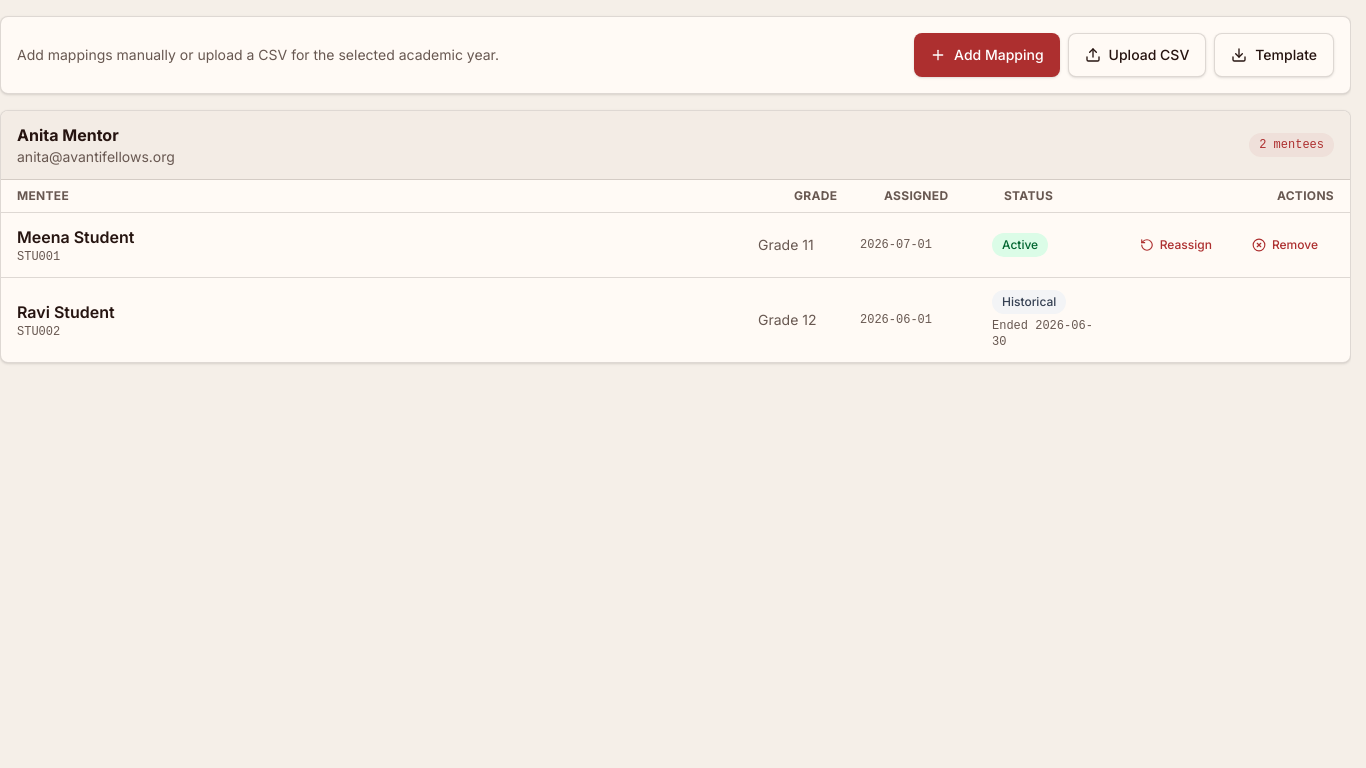
AcademicMentorshipManager › shows concurrent Mapping conflicts and still refreshes the table
Click the button "Add Mapping" at (987, 55), box [914,33,1060,77]
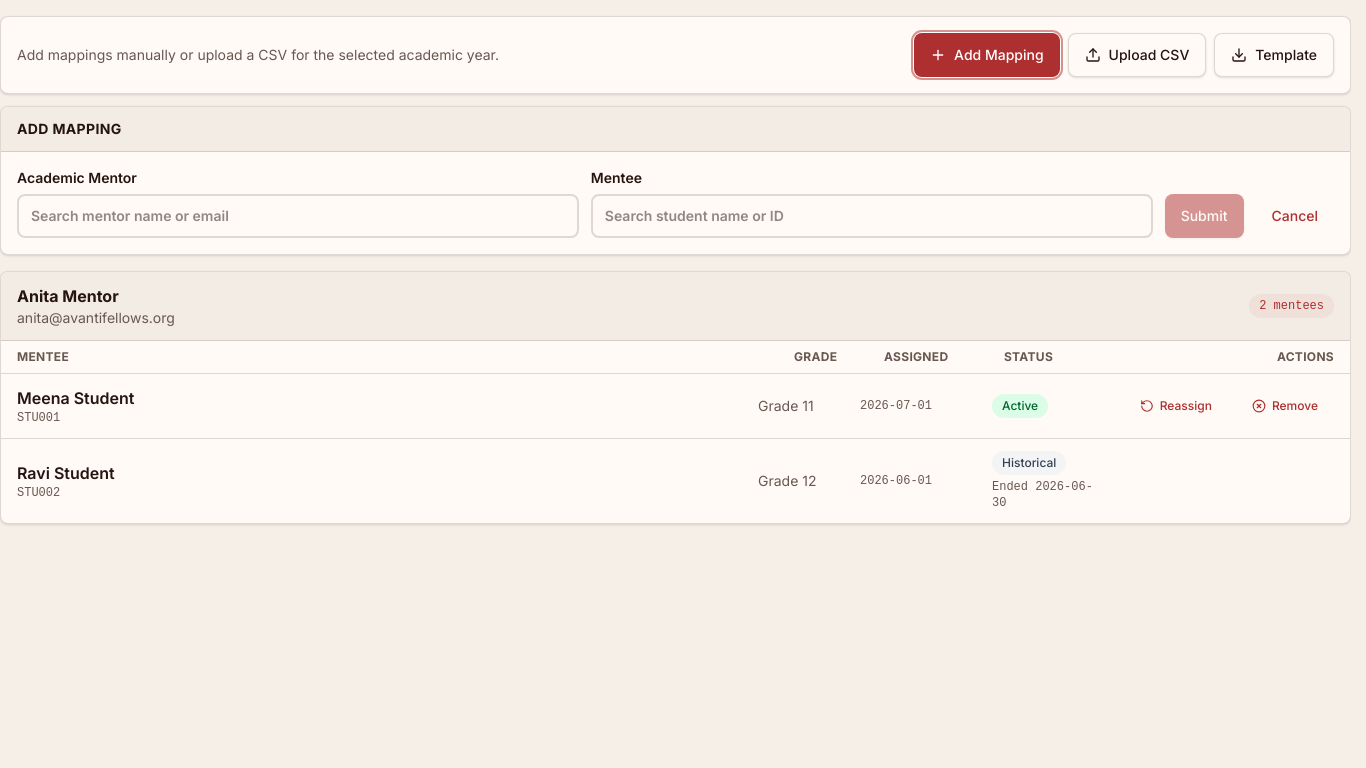
Type "Anita" into the field labelled "Academic Mentor" at (298, 216), box [17,194,579,238]
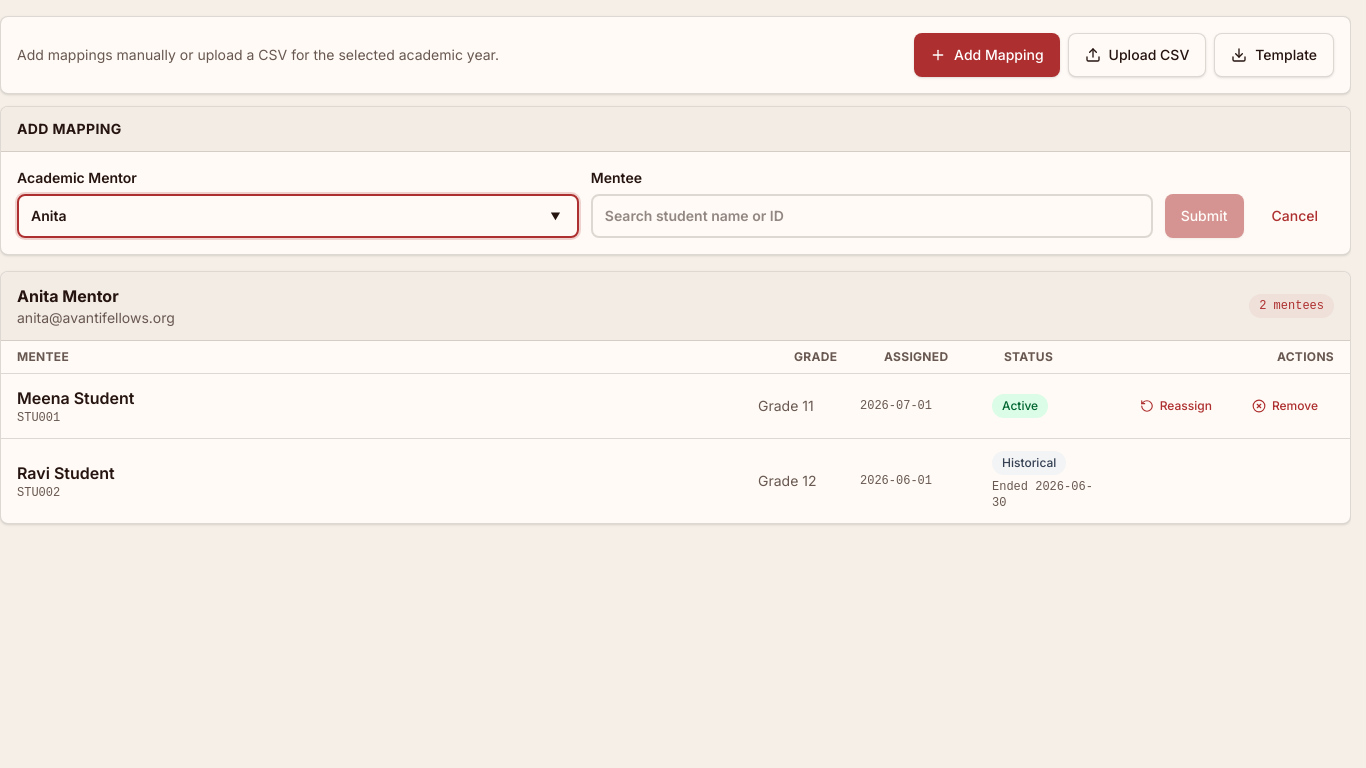
Replace the text in the field labelled "Academic Mentor" with "Anita Mentor (anita@avantifellows.org)" at (298, 216), box [17,194,579,238]
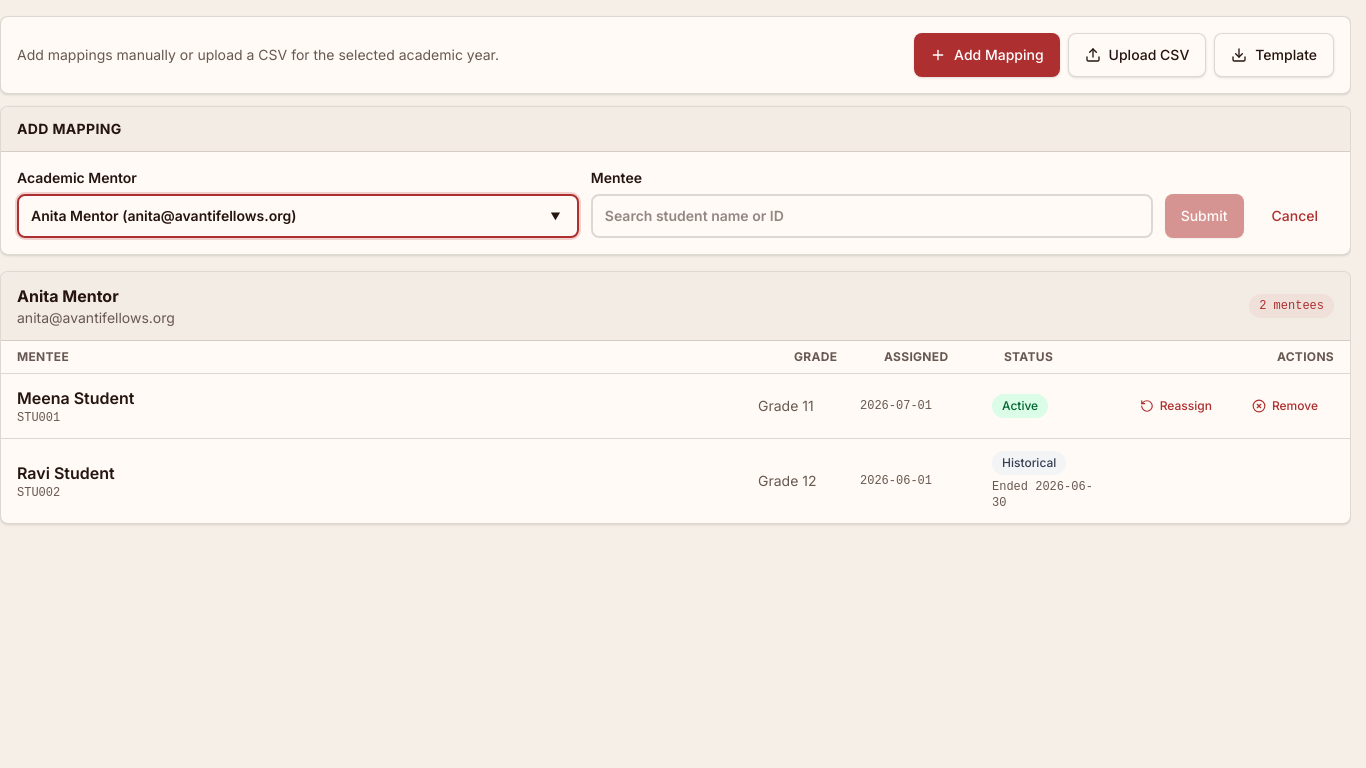
Type "STU" into the field labelled "Mentee" at (872, 216), box [591,194,1153,238]
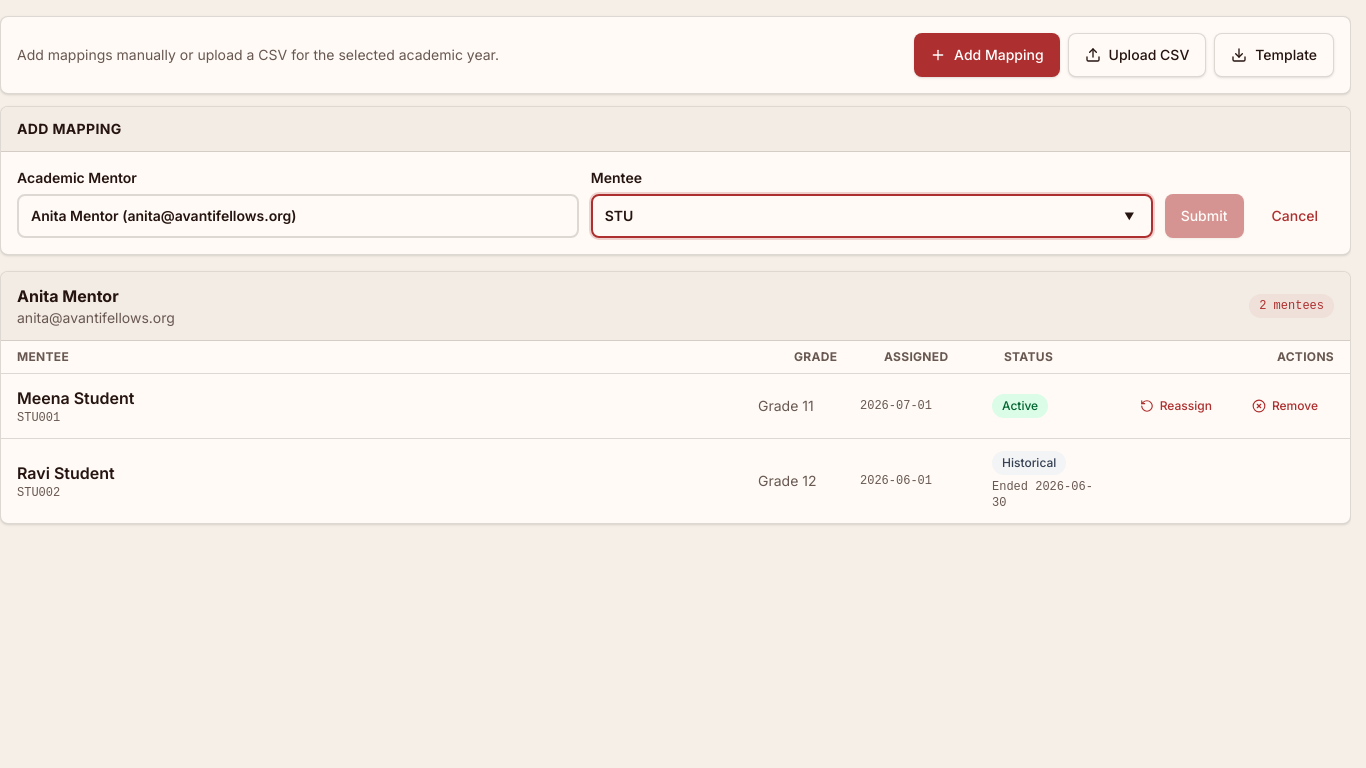
Replace the text in the field labelled "Mentee" with "Meena Student (STU001)" at (872, 216), box [591,194,1153,238]
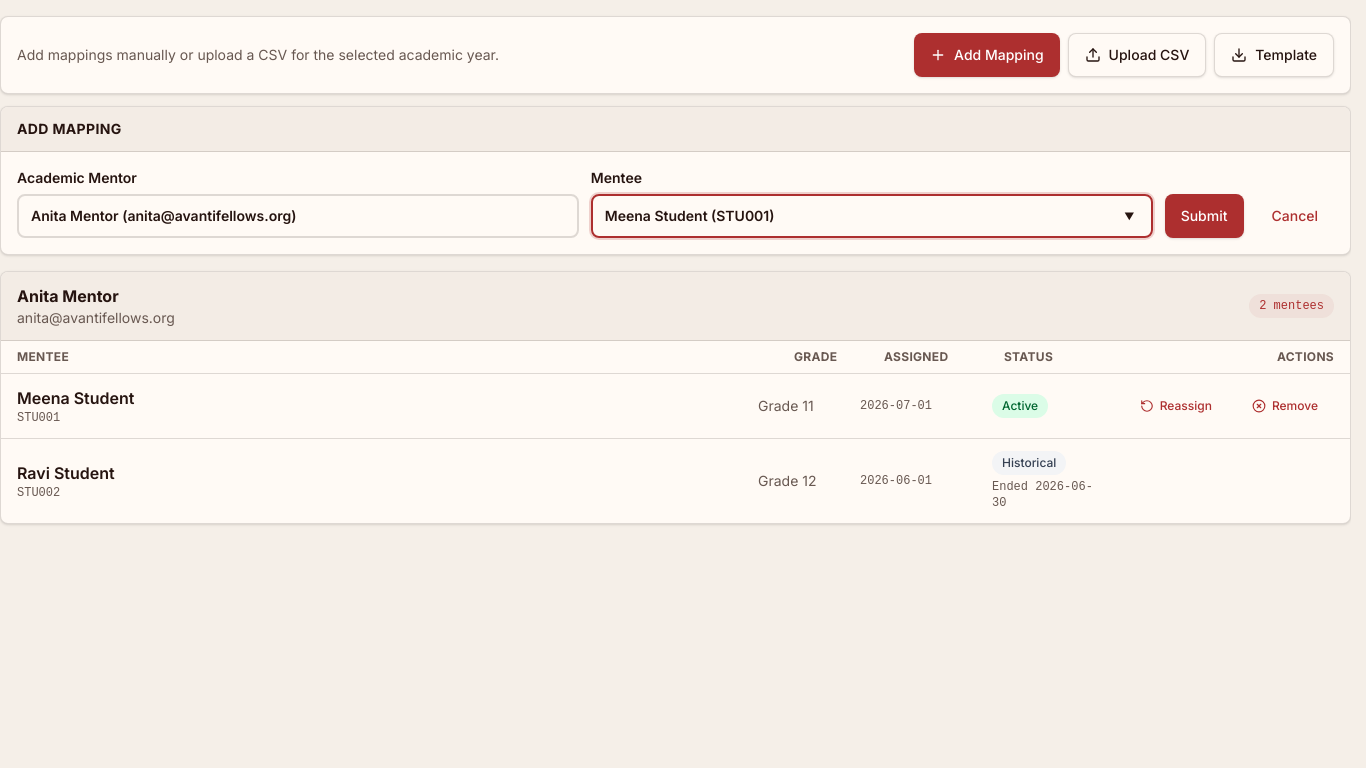
Click the button "Submit" at (1204, 216), box [1165,194,1244,238]
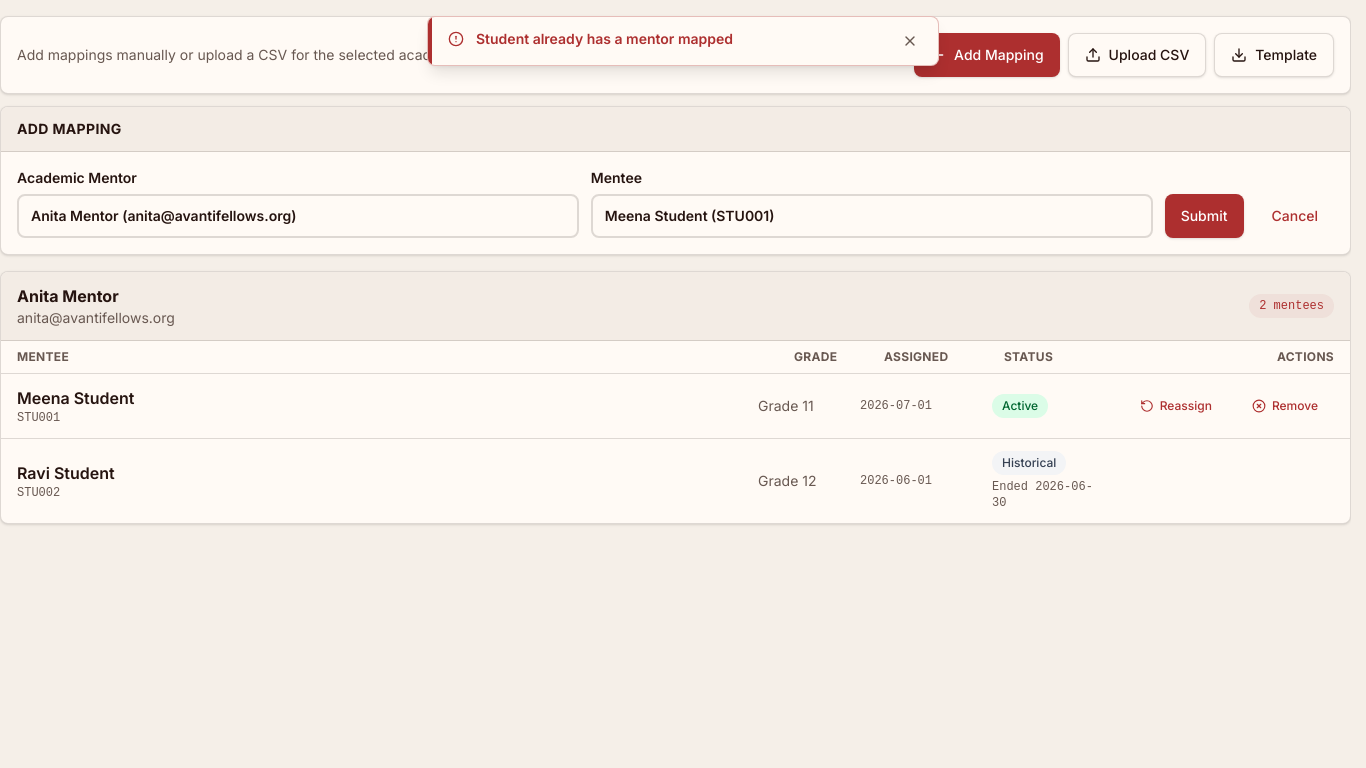
Now the text "Student already has a mentor mapped" is shown, box [476,30,733,47]
